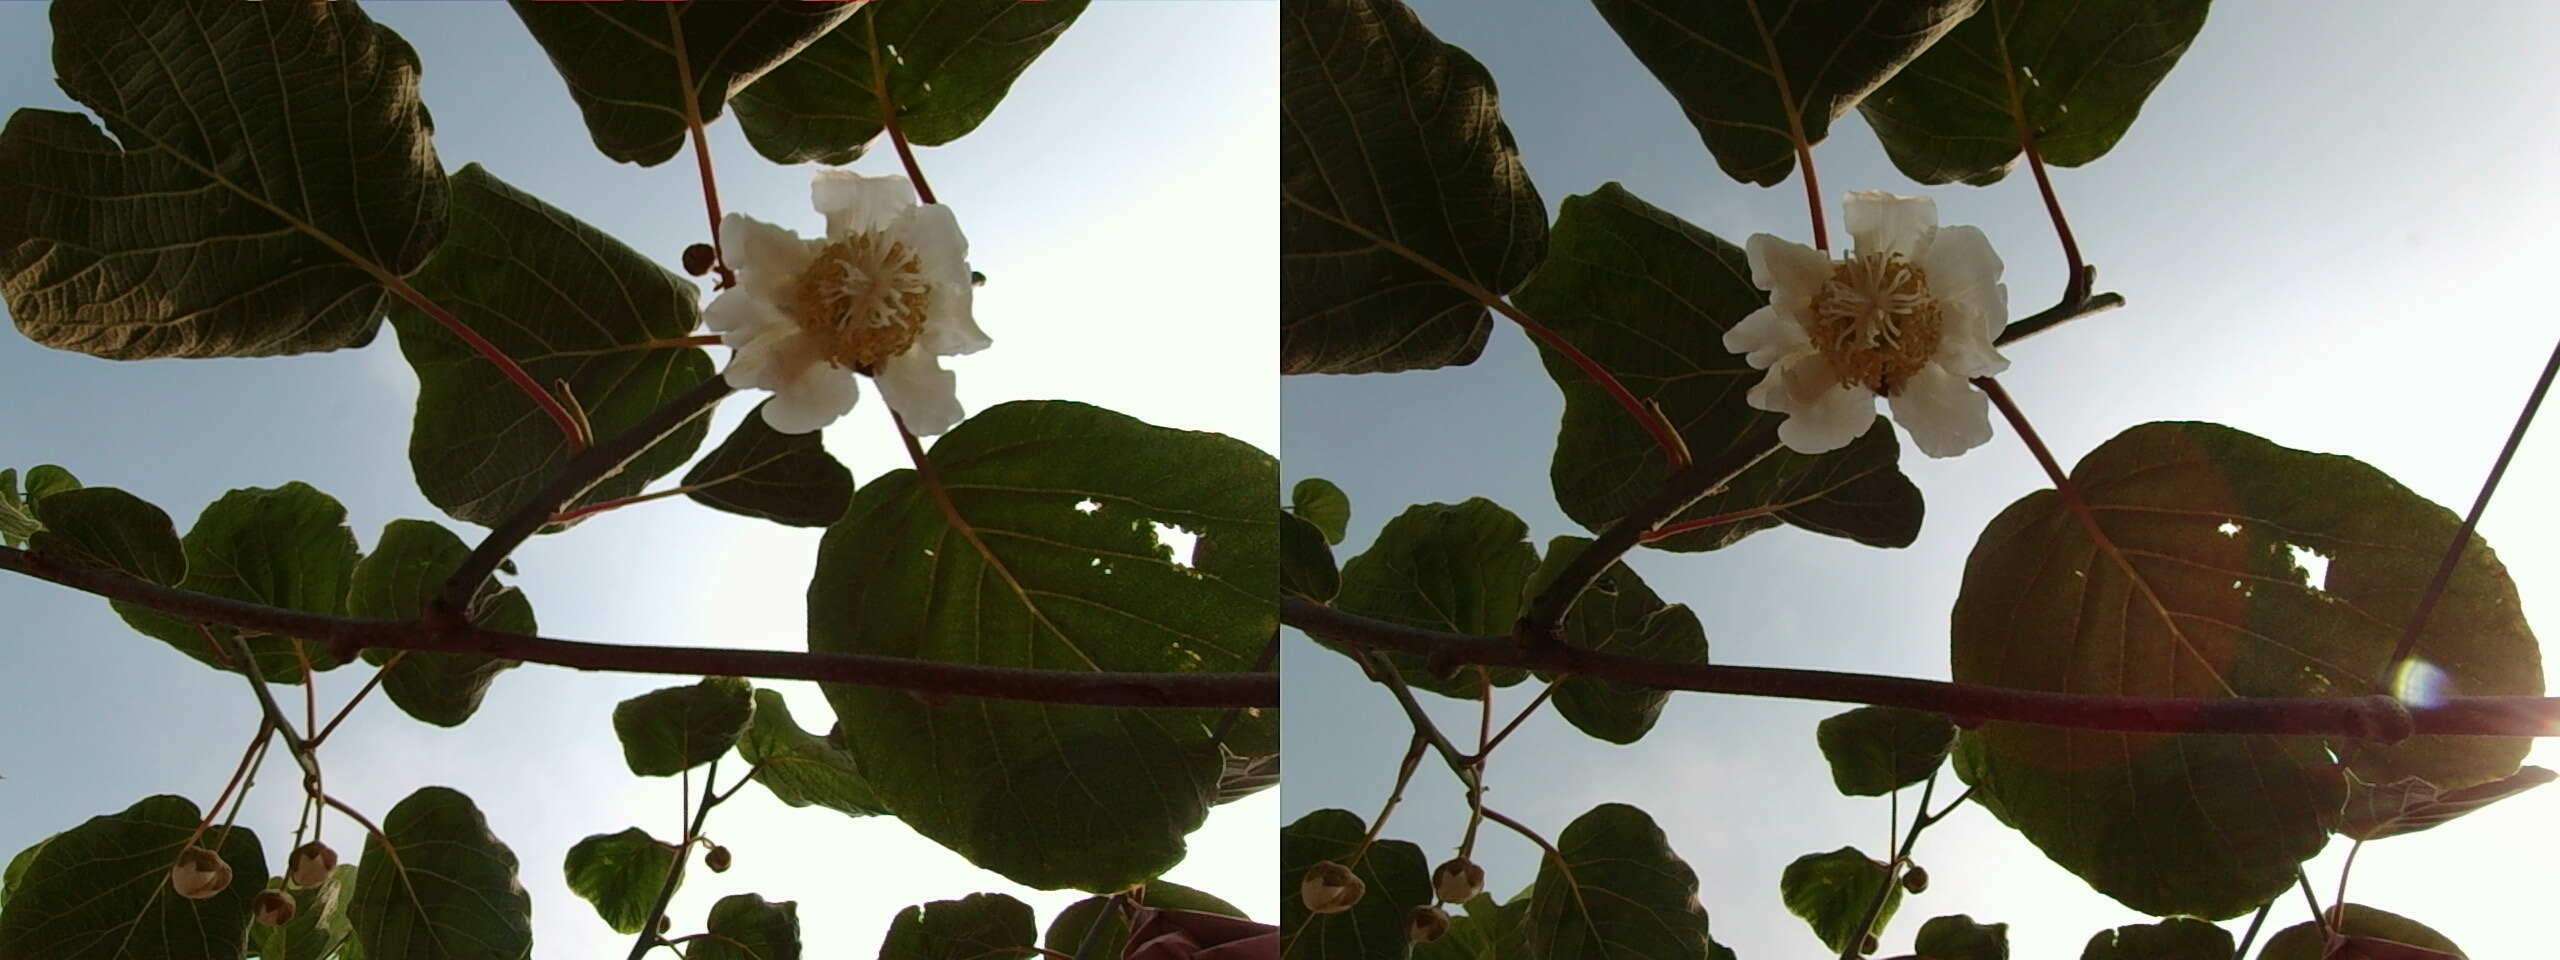flower: (696, 176, 993, 416), (1731, 188, 2003, 446)
